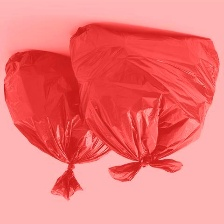plastic_bag: (65, 18, 221, 186), (0, 45, 124, 202)
